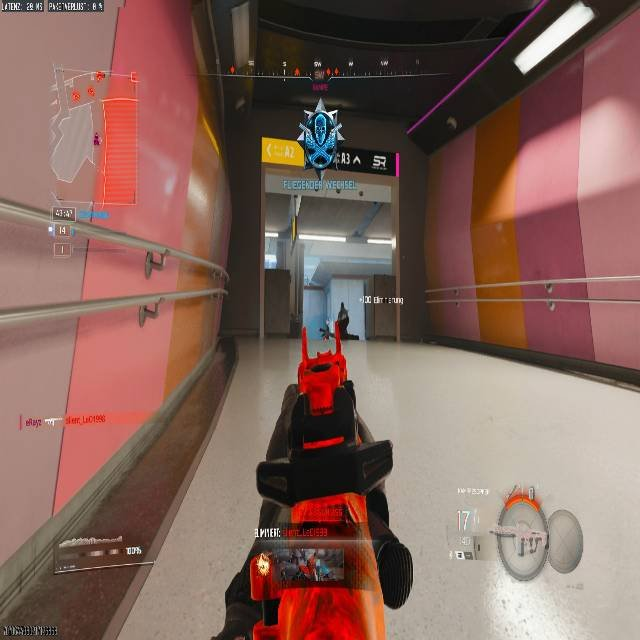head: (339, 302, 346, 311)
player: (296, 98, 338, 167), (334, 301, 359, 341)
